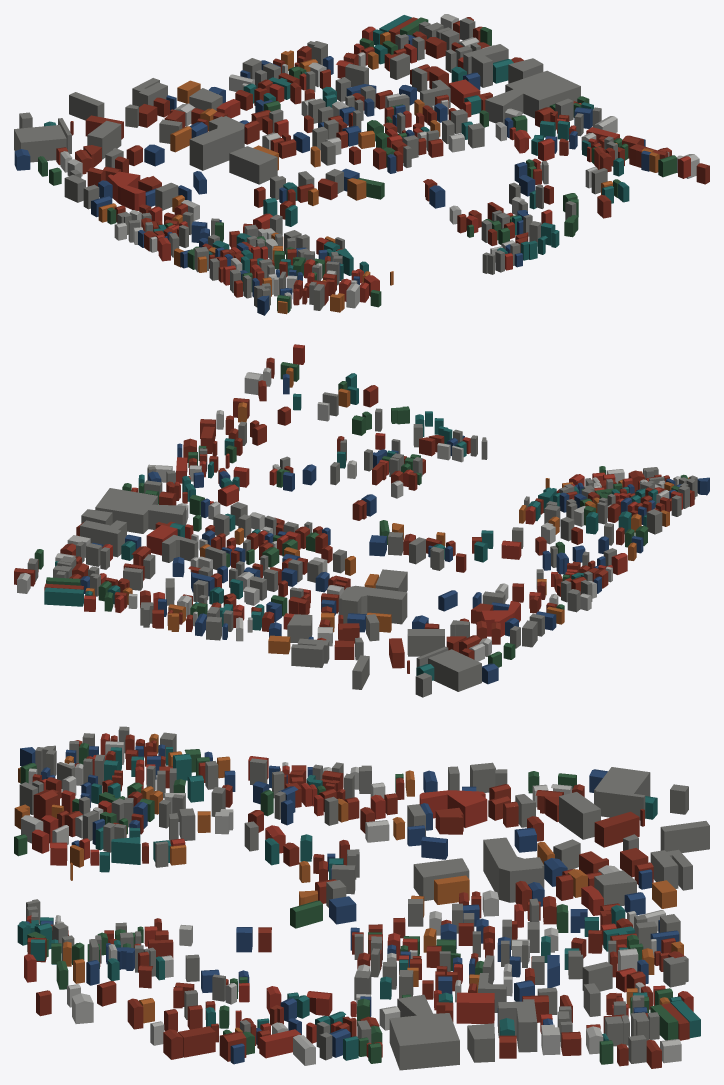
Rendered from near-16-54720-29732.aff0cc49.glb.
3 renders of one model, top to bottom at view 1: azimuth 30°, elevation 25°; view 2: azimuth 150°, elevation 25°; view 3: azimuth 270°, elevation 25°, orthographic. The views are drawn at different scales.
Bounding box in the file's own units: 601 × 90.96 × 609.
